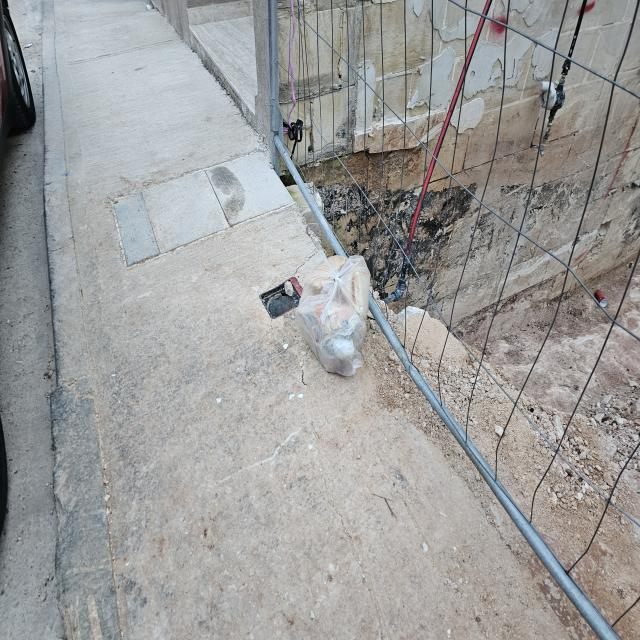white_bag: (294, 252, 372, 382)
